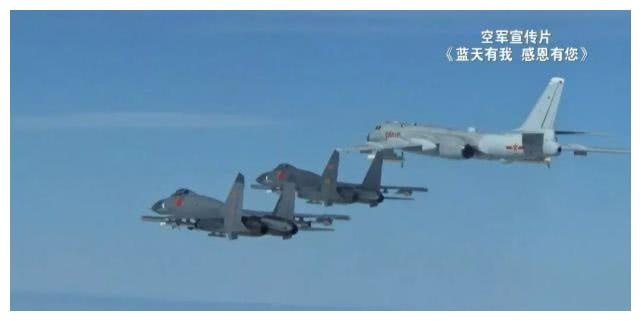airplane: (360, 74, 620, 167), (133, 172, 347, 245), (248, 144, 435, 209)
